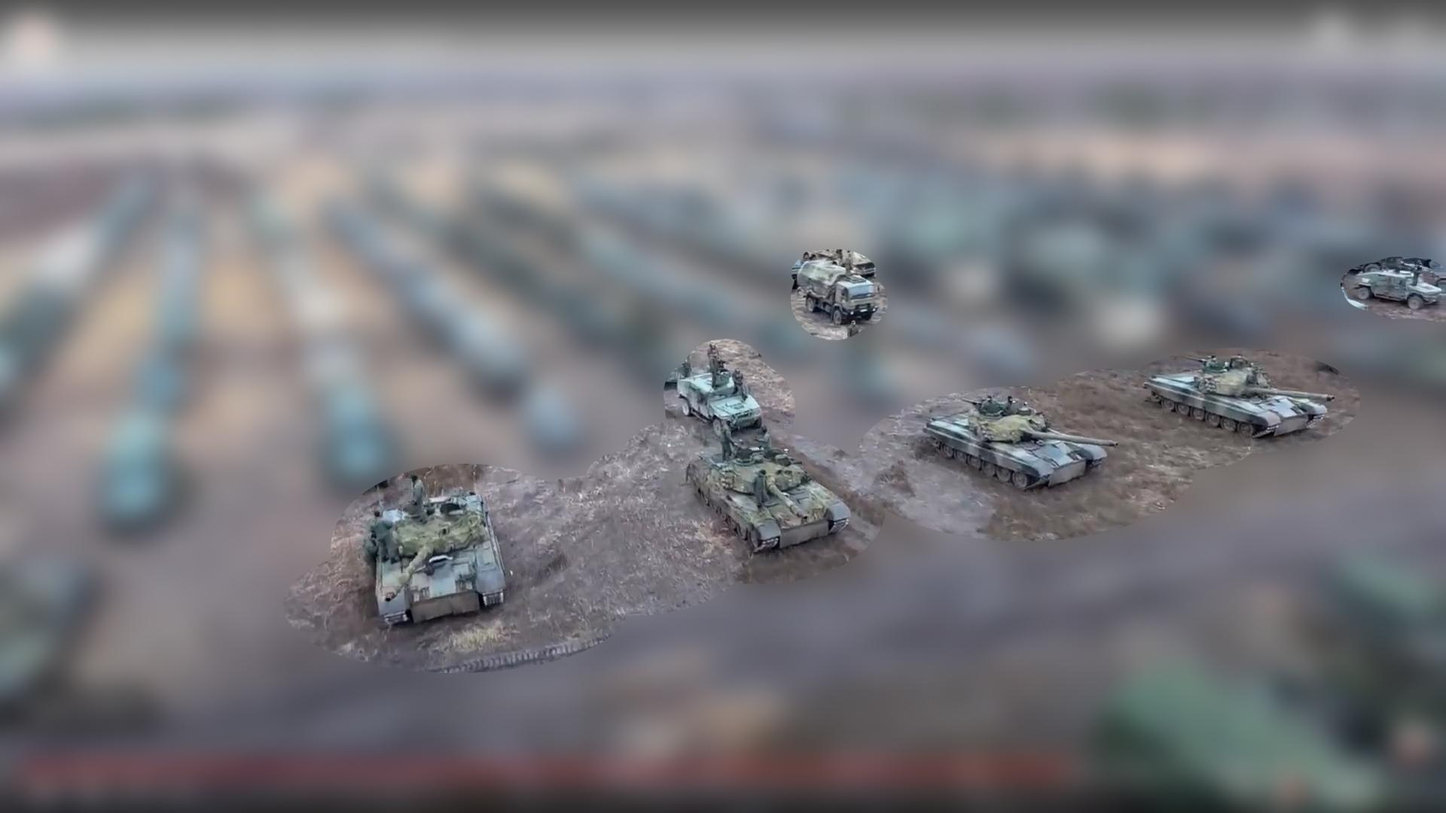armored_car: (674, 368, 766, 436), (1348, 266, 1446, 316)
tank: (365, 482, 510, 634), (918, 393, 1121, 495), (684, 445, 846, 558), (1141, 355, 1336, 446)
truck: (789, 248, 881, 327)
